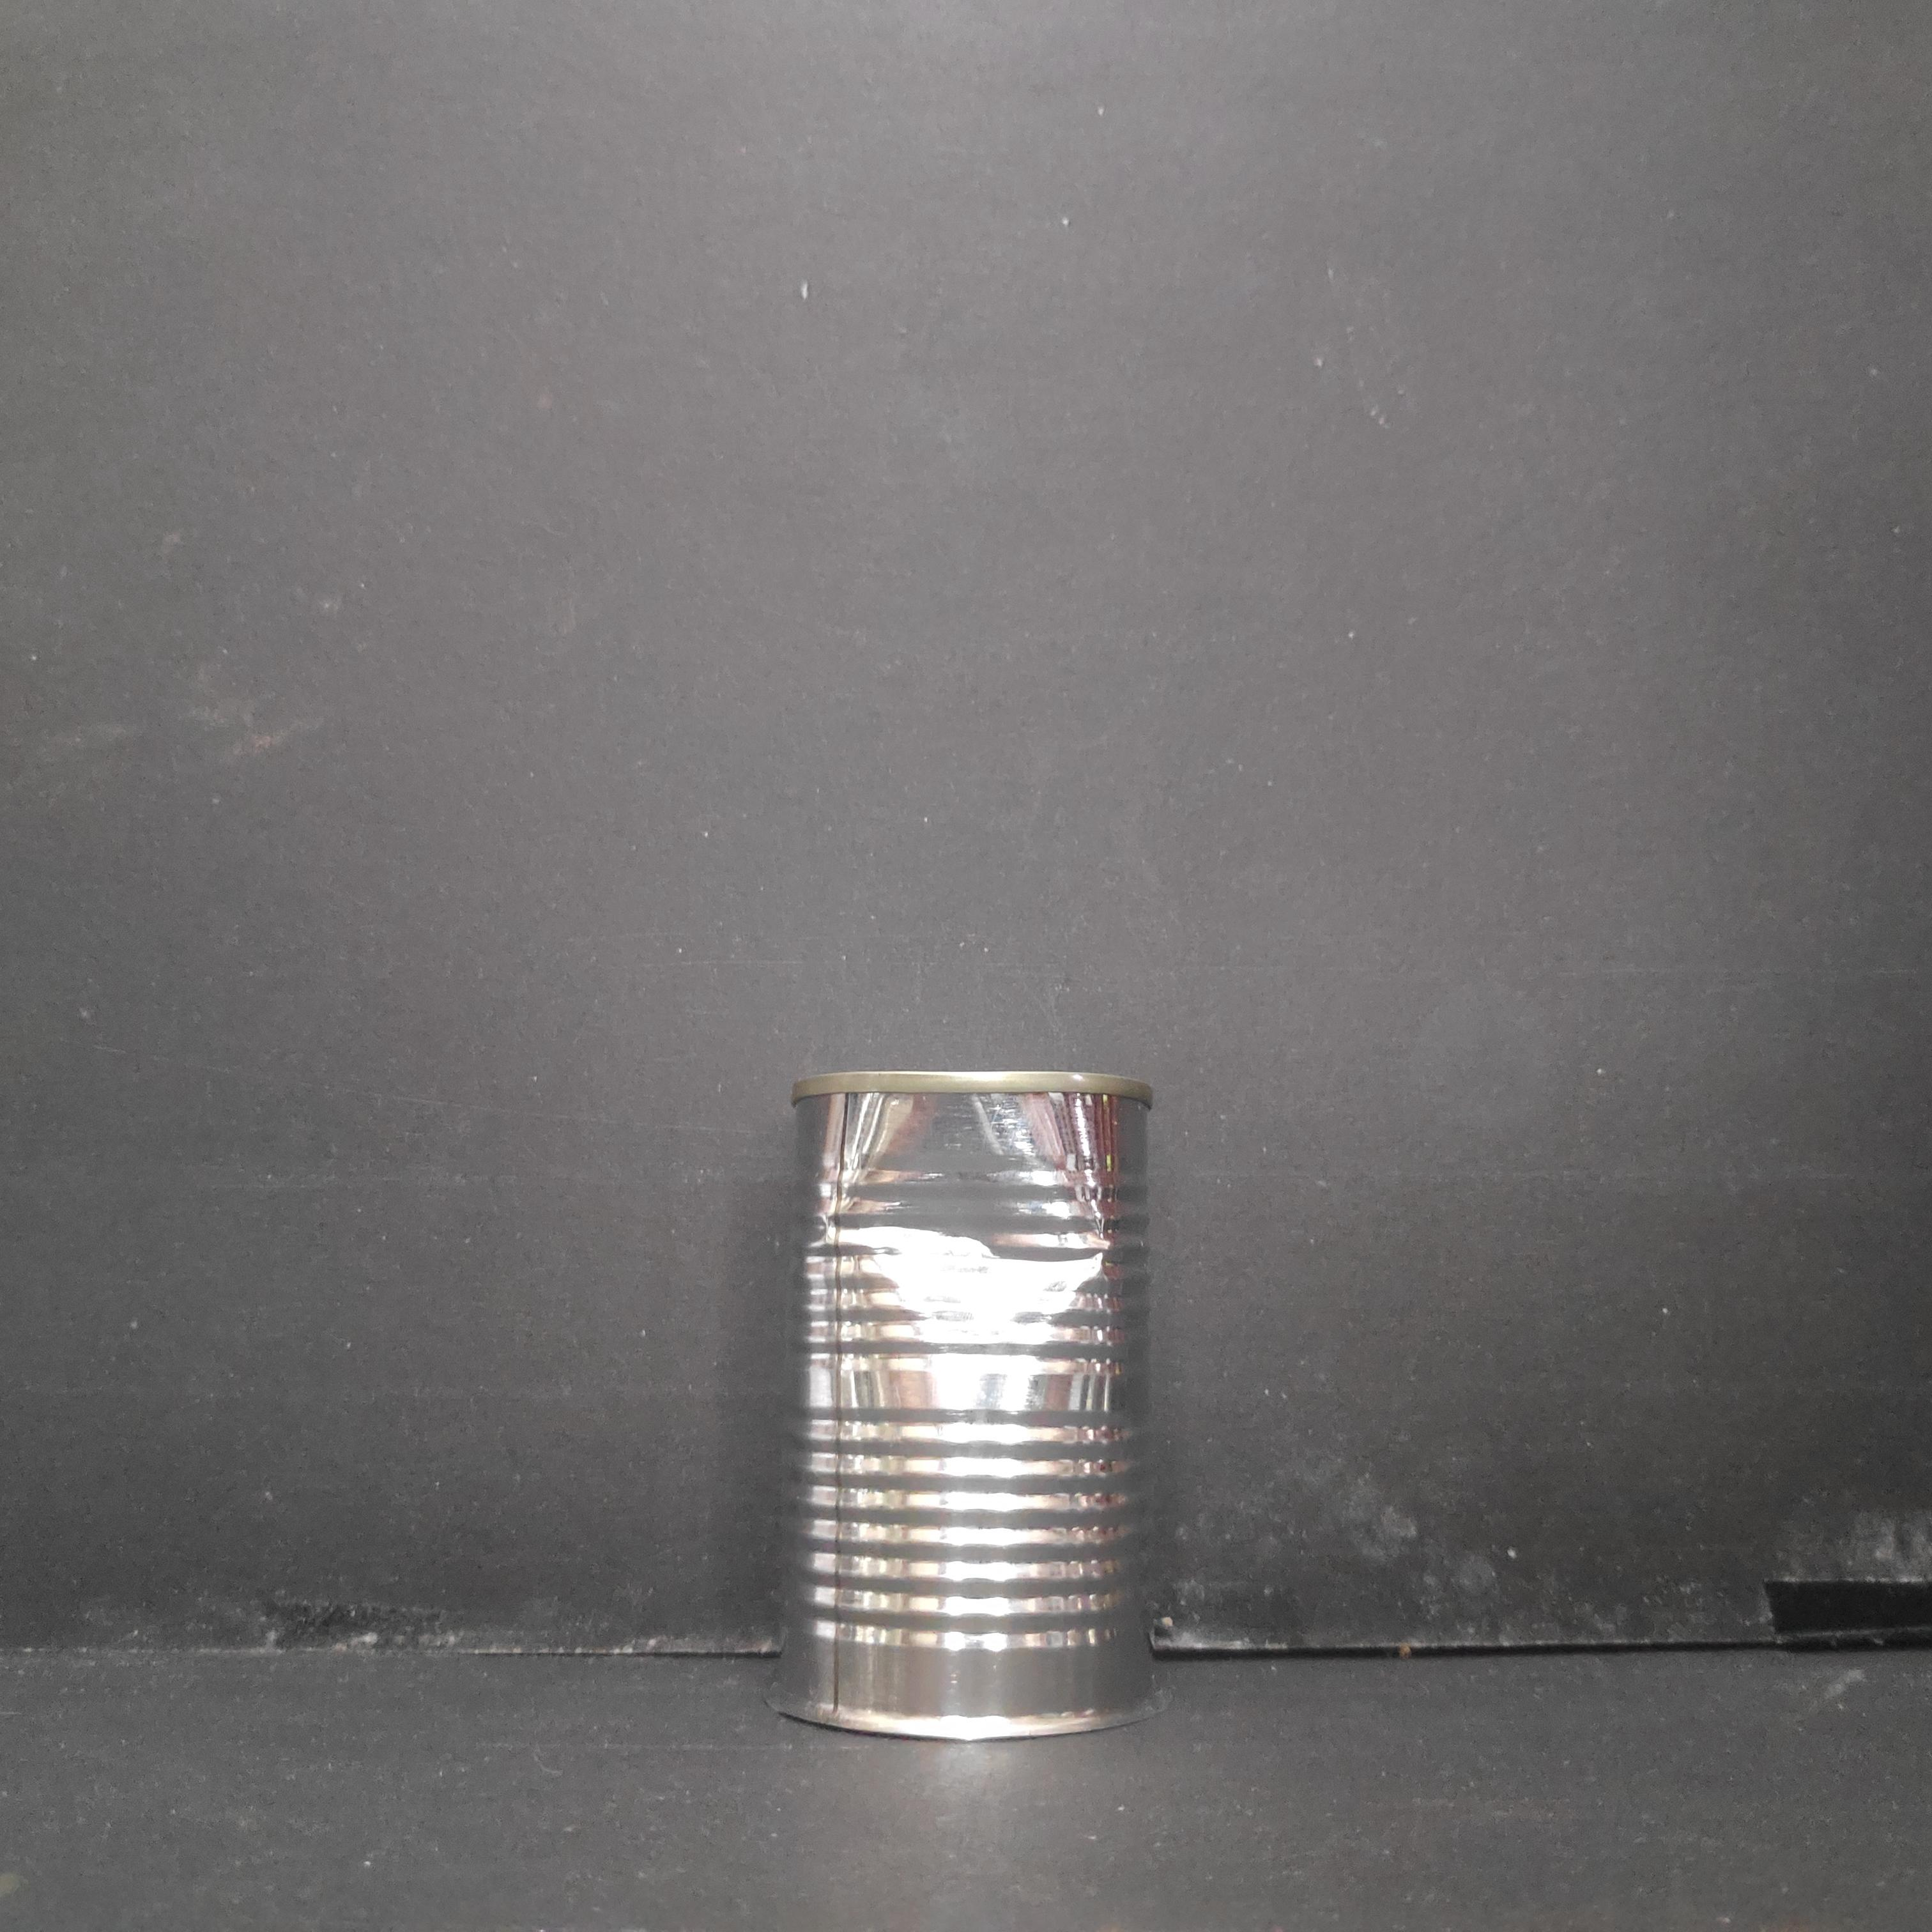Minor Defect: (780, 1051, 1162, 1755)
